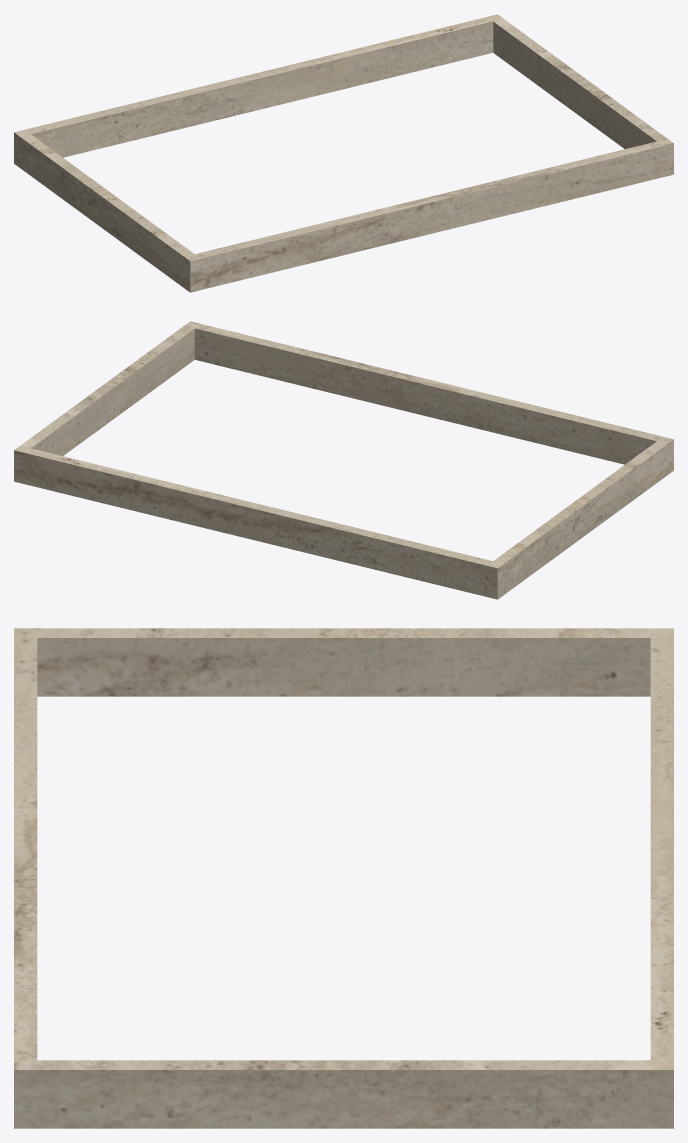
The picture shows the model from 3 angles, top to bottom: view 1: azimuth 30°, elevation 25°; view 2: azimuth 150°, elevation 25°; view 3: azimuth 270°, elevation 25°; orthographic projection. The views are drawn at different scales.
Parts seen in each view (by area): view 1: Object_1; view 2: Object_1; view 3: Object_1.
Boxes of the visible parts, x1,y1,x2,y2 form: Object_1: [14, 14, 673, 292]; Object_1: [14, 321, 673, 599]; Object_1: [14, 628, 673, 1128].
Size of the model in its own units: 0.808 by 0.05 by 0.51.
Materials: 1 (1 with a texture image).
